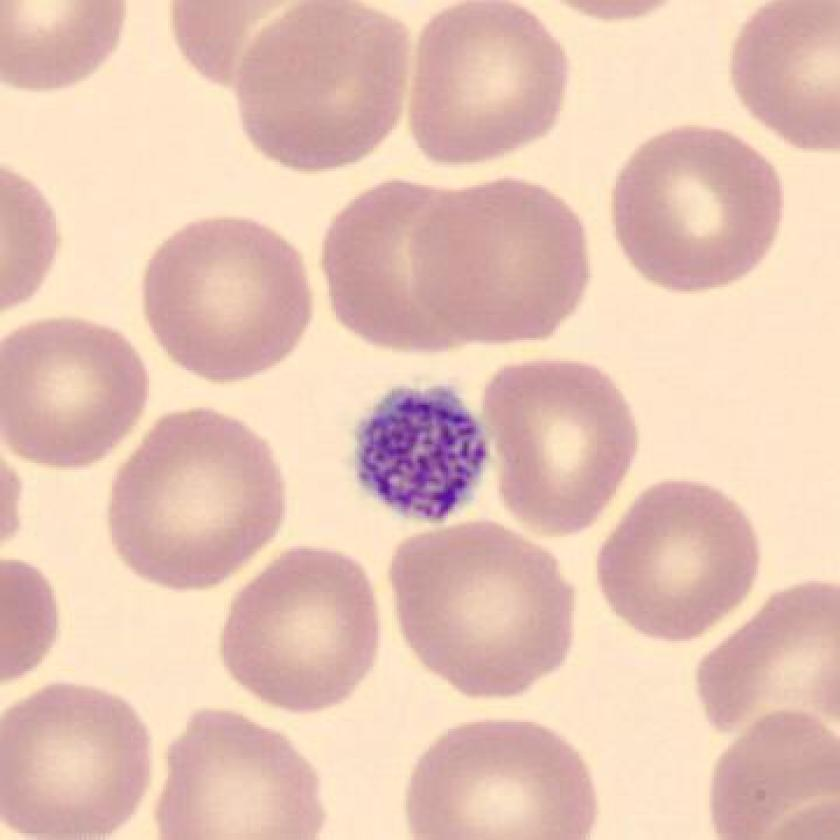platelets: (351, 383, 498, 531)
